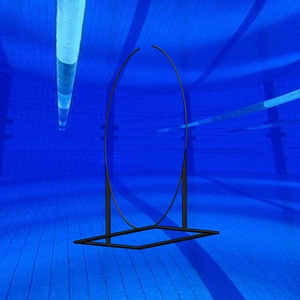circle: (74, 44, 221, 252)
